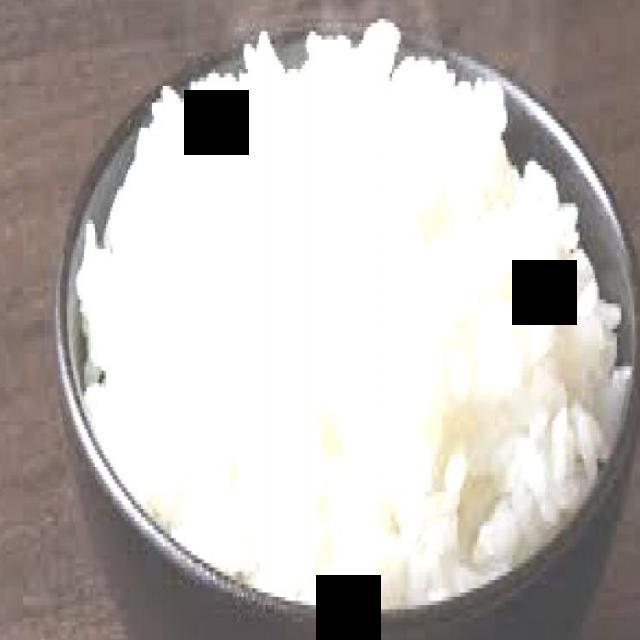Chicken -Chicken Inasal-: (379, 134, 627, 604)
